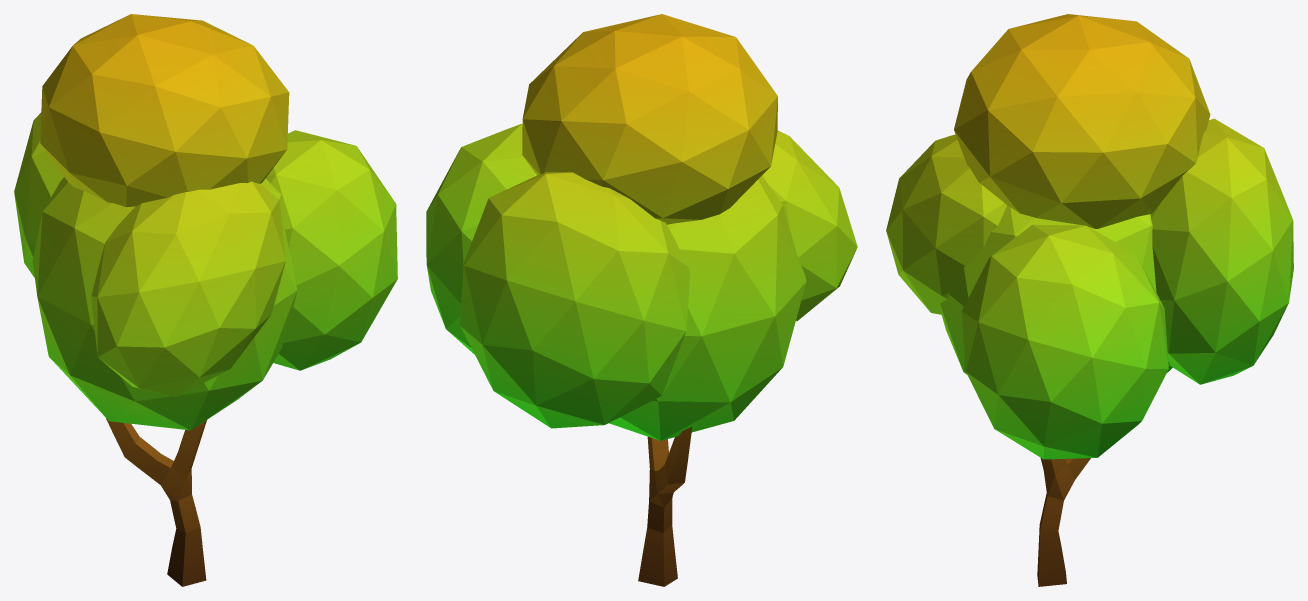
The picture shows the model from 3 angles, left to right: view 1: azimuth 30°, elevation 25°; view 2: azimuth 150°, elevation 25°; view 3: azimuth 270°, elevation 25°; orthographic projection. The views are drawn at different scales.
Parts seen in each view (by area): view 1: Object_1095; view 2: Object_1095; view 3: Object_1095.
Boxes of the visible parts, box(x1,y1,x2,y2) form: Object_1095: box(14, 14, 397, 586); Object_1095: box(426, 14, 857, 586); Object_1095: box(886, 14, 1293, 586).
Bounding box in the file's own units: 0.8483 × 1.31 × 0.8826.
1 material, 1 textured.
